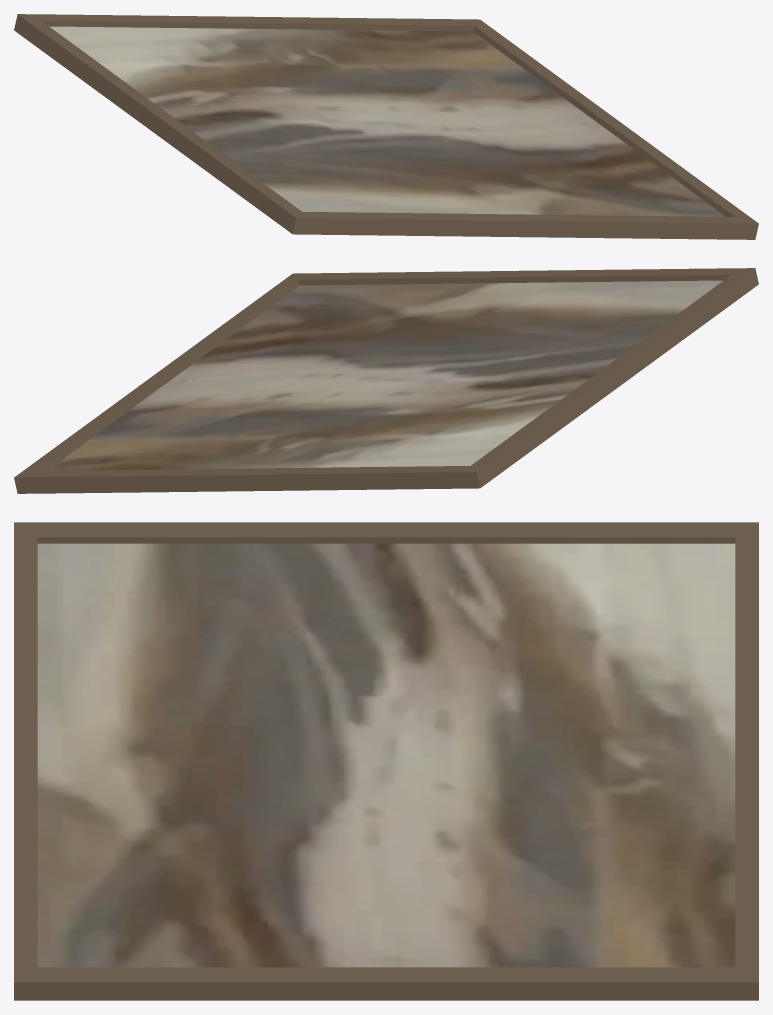
The model's file is component_011_painting_right.glb.
3 renders of one model, top to bottom at view 1: azimuth 30°, elevation 25°; view 2: azimuth 150°, elevation 25°; view 3: azimuth 270°, elevation 25°, orthographic. The views are drawn at different scales.
Parts seen in each view (by area): view 1: 011_painting_right_004_instance_004_photo_000, 011_painting_right_003_instance_003_photo_-01, 011_painting_right_001_instance_001_photo_-01, 011_painting_right_002_instance_002_photo_-01, 011_painting_right_000_instance_000_photo_-01; view 2: 011_painting_right_004_instance_004_photo_000, 011_painting_right_002_instance_002_photo_-01, 011_painting_right_001_instance_001_photo_-01, 011_painting_right_003_instance_003_photo_-01, 011_painting_right_000_instance_000_photo_-01; view 3: 011_painting_right_004_instance_004_photo_000, 011_painting_right_000_instance_000_photo_-01, 011_painting_right_001_instance_001_photo_-01, 011_painting_right_002_instance_002_photo_-01, 011_painting_right_003_instance_003_photo_-01.
Boxes of the visible parts, x1,y1,x2,y2 form: 011_painting_right_004_instance_004_photo_000: (50,26,725,216); 011_painting_right_003_instance_003_photo_-01: (303,212,743,239); 011_painting_right_001_instance_001_photo_-01: (14,14,310,234); 011_painting_right_002_instance_002_photo_-01: (33,14,473,31); 011_painting_right_000_instance_000_photo_-01: (466,19,758,239); 011_painting_right_004_instance_004_photo_000: (47,280,722,470); 011_painting_right_002_instance_002_photo_-01: (29,466,469,493); 011_painting_right_001_instance_001_photo_-01: (462,268,758,488); 011_painting_right_003_instance_003_photo_-01: (299,268,739,285); 011_painting_right_000_instance_000_photo_-01: (14,273,306,493); 011_painting_right_004_instance_004_photo_000: (37,543,735,967); 011_painting_right_000_instance_000_photo_-01: (14,967,758,1000); 011_painting_right_001_instance_001_photo_-01: (14,522,758,543); 011_painting_right_002_instance_002_photo_-01: (735,537,758,967); 011_painting_right_003_instance_003_photo_-01: (14,537,37,967).
Bounding box in the file's own units: 0.2056 × 0.0564 × 0.2129.
2 materials, 1 textured.
